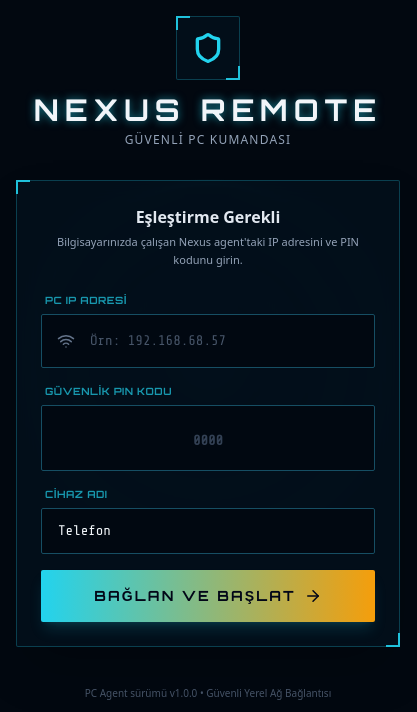
Test case: ConnectScreen › strips non-digits from the PIN input
Type "1a2b" into the field with placeholder "0000".
click(208, 438); type("1a2b")  # box [41, 405, 375, 471]
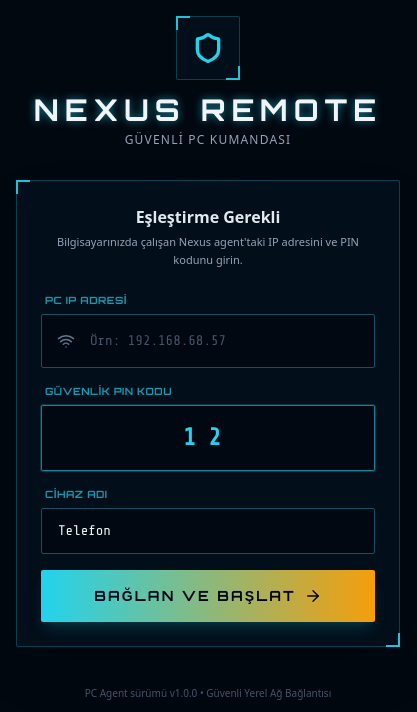
Expected: the field with placeholder "0000" below "GÜVENLİK PIN KODU" holds "12", [41, 405, 375, 471]
